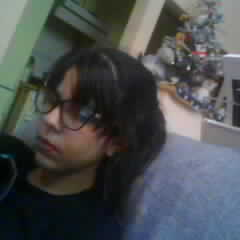without_mask: (35, 67, 105, 174)
